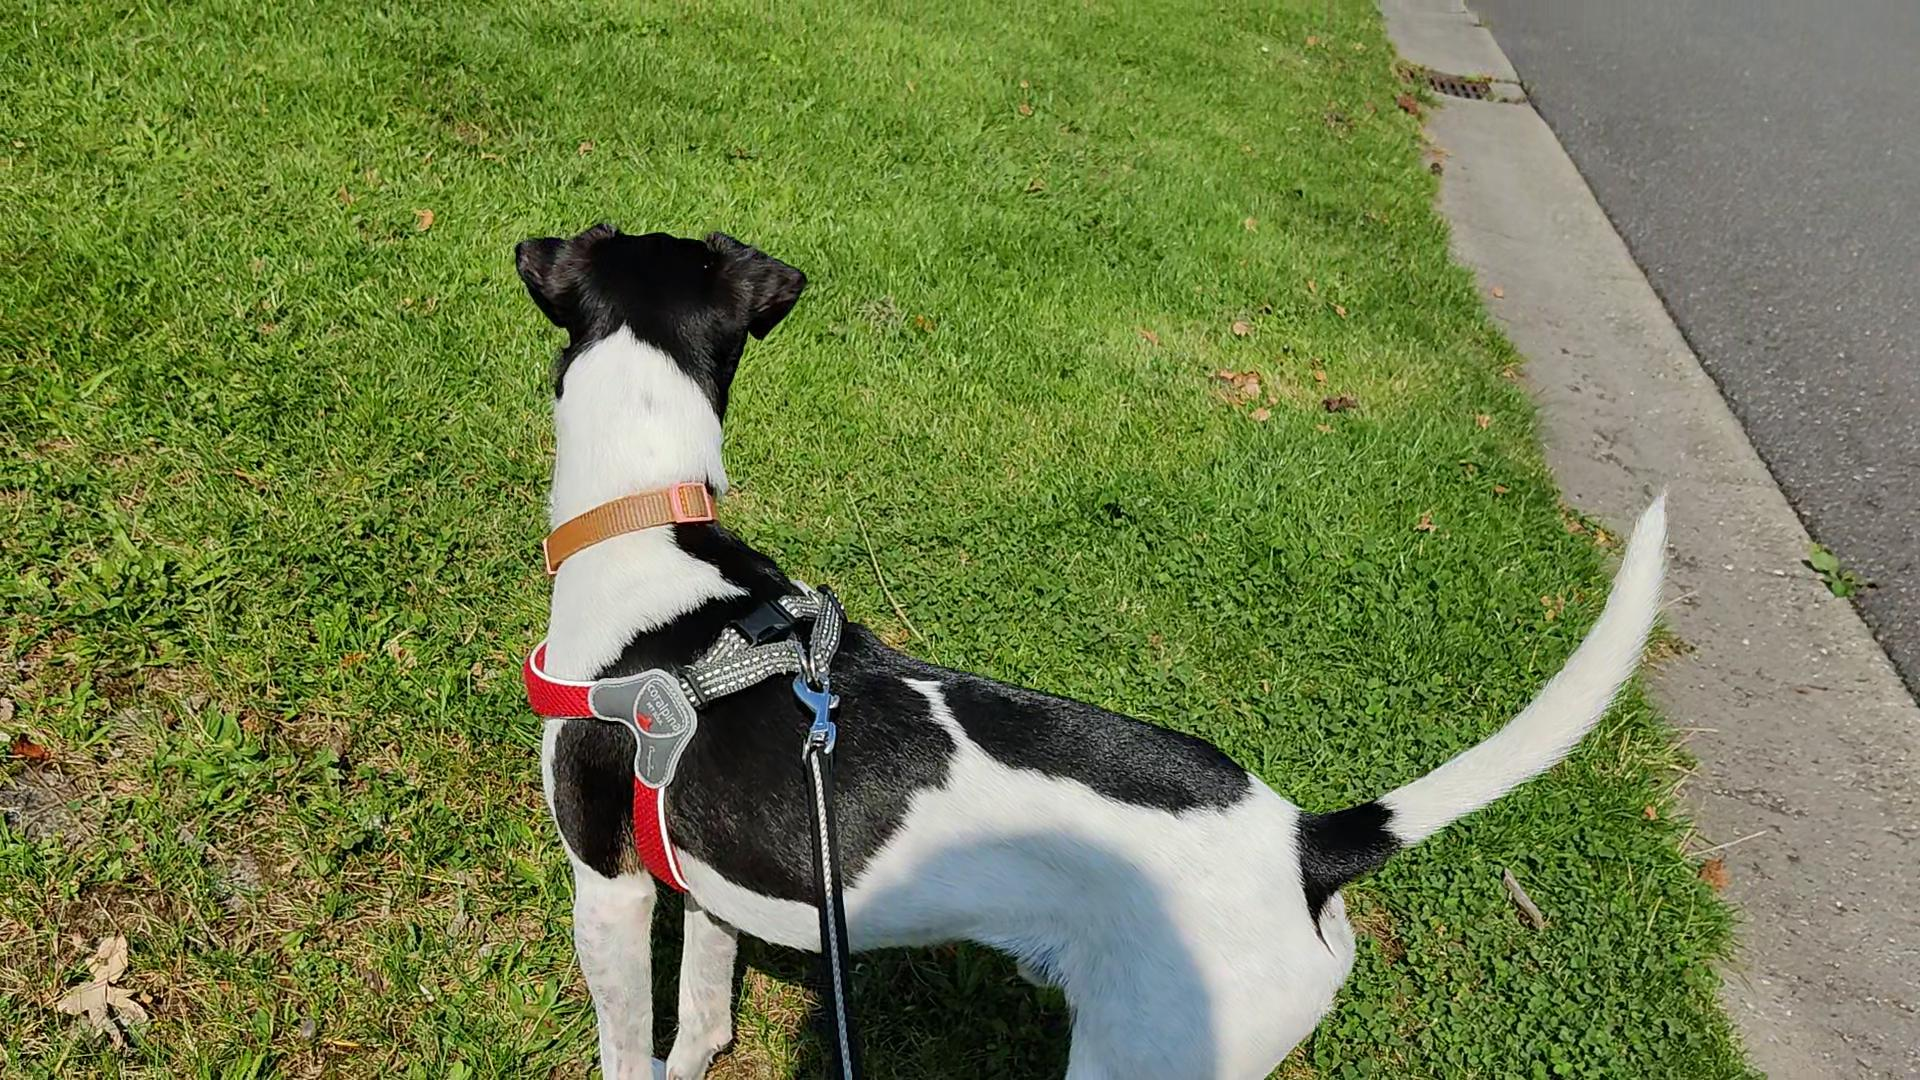Dog: (484, 196, 1696, 1079)
